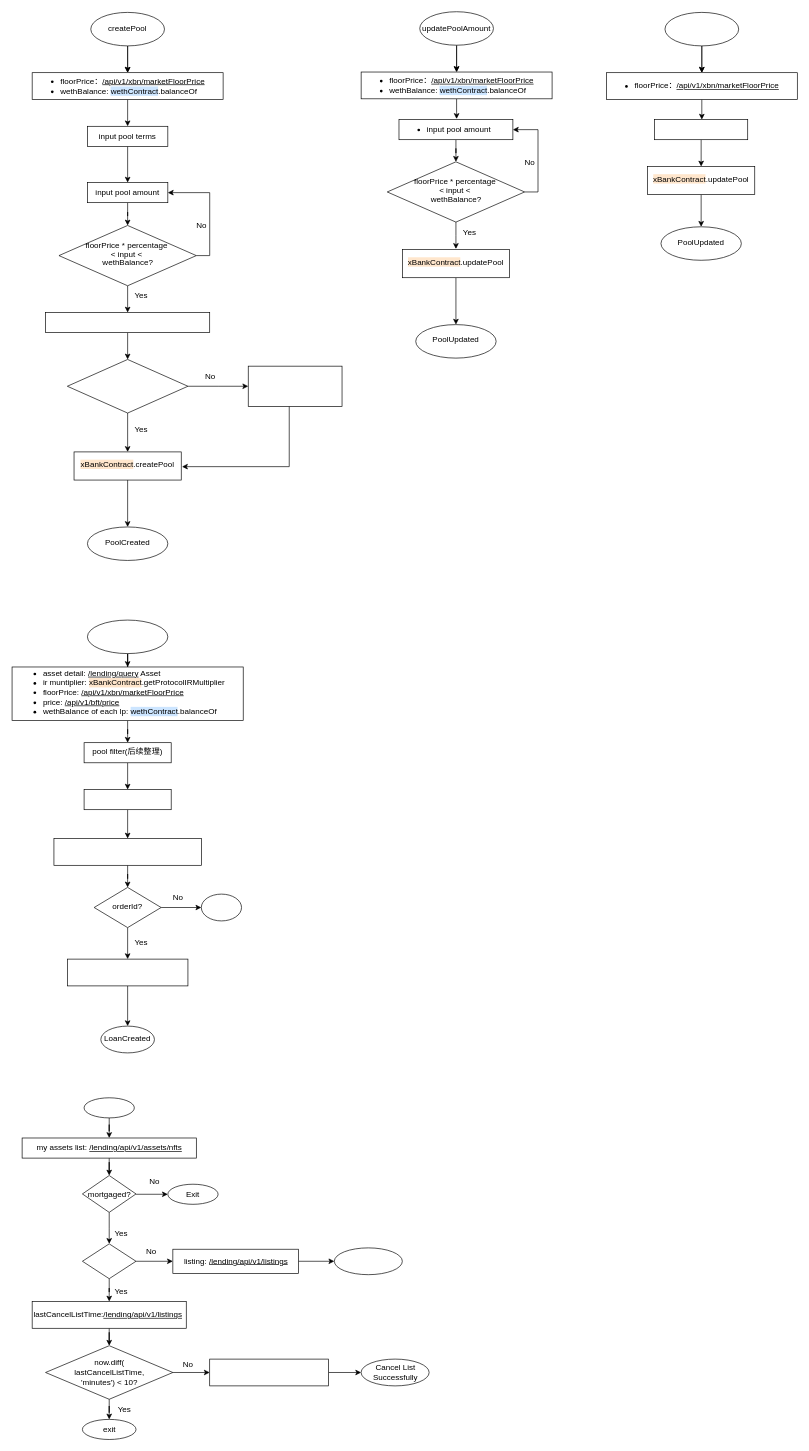
Some shapes in this 809 by 1451 pixel diagram are drawn without their labels. Each missing label, with the centre of its shape:
"cancel list: /lending/api/v1/listings" goes at (x=269, y=1372).
"edit pool terms" goes at (x=701, y=129).
"Failed" goes at (x=221, y=907).
"List Successfully" goes at (x=368, y=1261).
"listing?" goes at (x=109, y=1261).
"Loan" goes at (x=127, y=636).
"orderId: /lending/api/v1/loan-order" goes at (x=127, y=851).
"select pool" goes at (x=127, y=799).
"start" goes at (x=108, y=1107).
"updatePoolItems" goes at (x=701, y=29).
"wethAllowance == MAX" goes at (x=127, y=386).
"wethAllowance: wethContract .allowance" goes at (x=127, y=322).
"wethContract .approve" goes at (x=295, y=385).
"xBankContract .transferFrom" goes at (x=127, y=972).
